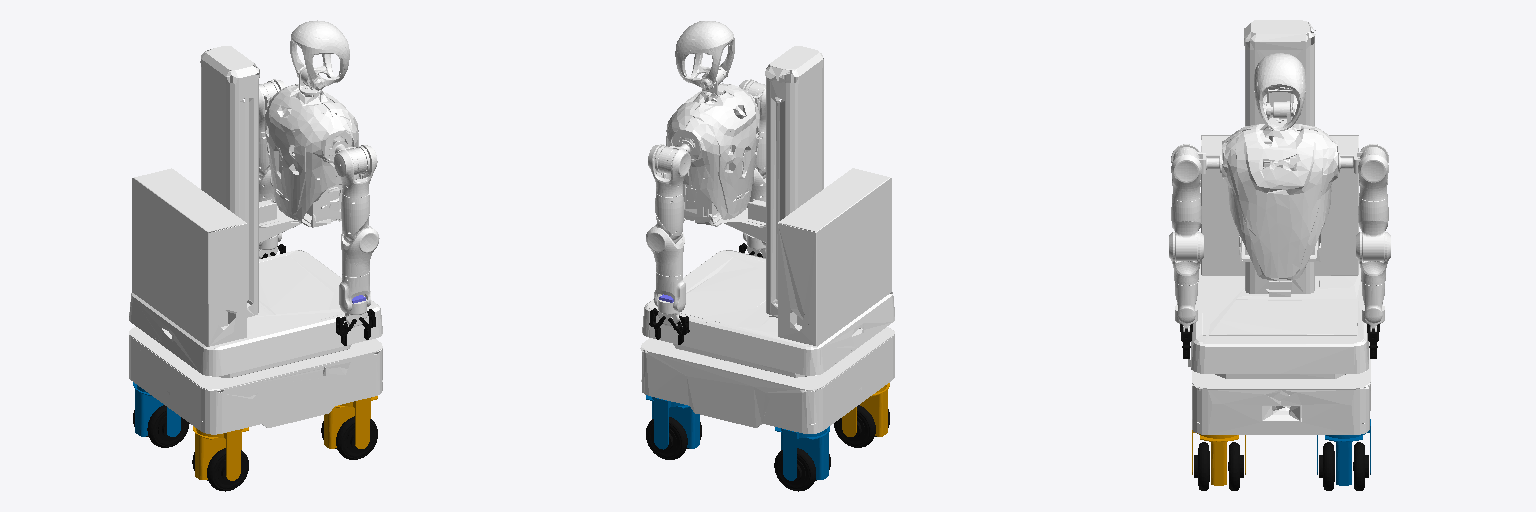
--- Facts derived from the render (not from the file) ---
Views: 3 orthographic renders of the robot side by side, from view 1: azimuth 30°, elevation 25°; view 2: azimuth 150°, elevation 25°; view 3: azimuth 270°, elevation 25°.
Robot: urdf_arm — 52 links, 51 joints (26 revolute, 12 continuous, 1 prismatic, 12 fixed); root link urdf_arm; default pose: every joint at zero.
Links seen in each view (by area): view 1: chassis, urdf_arm, head, br_caster_rotation_link, fr_caster_rotation_link, zarm_r4_link, zarm_r2_link, bl_caster_rotation_link, zarm_r3_link, fr_caster_r_wheel_link, br_caster_r_wheel_link, bl_caster_r_wheel_link (+2 smaller); view 2: chassis, urdf_arm, head, bl_caster_rotation_link, fl_caster_rotation_link, zarm_l4_link, zarm_l2_link, br_caster_rotation_link, zarm_l3_link, bl_caster_l_wheel_link, fl_caster_l_wheel_link, br_caster_l_wheel_link (+2 smaller); view 3: chassis, urdf_arm, head, zarm_l3_link, zarm_r3_link, zarm_l2_link, zarm_r2_link, fl_caster_rotation_link, fr_caster_rotation_link, zarm_r4_link, zarm_l4_link, zarm_l5_link (+5 smaller).
Link boxes in pixels (x1=…): chassis: x1=129, y1=46, x2=382, y2=434; urdf_arm: x1=259, y1=84, x2=358, y2=242; head: x1=290, y1=20, x2=349, y2=90; br_caster_rotation_link: x1=193, y1=426, x2=248, y2=480; fr_caster_rotation_link: x1=324, y1=396, x2=377, y2=448; zarm_r4_link: x1=341, y1=228, x2=379, y2=276; zarm_r2_link: x1=334, y1=145, x2=377, y2=197; bl_caster_rotation_link: x1=133, y1=382, x2=180, y2=436; zarm_r3_link: x1=341, y1=193, x2=371, y2=243; fr_caster_r_wheel_link: x1=336, y1=416, x2=377, y2=459; br_caster_r_wheel_link: x1=207, y1=448, x2=248, y2=491; bl_caster_r_wheel_link: x1=147, y1=405, x2=189, y2=447; chassis: x1=640, y1=46, x2=894, y2=433; urdf_arm: x1=666, y1=83, x2=765, y2=242; head: x1=675, y1=21, x2=734, y2=90; bl_caster_rotation_link: x1=775, y1=426, x2=829, y2=480; fl_caster_rotation_link: x1=646, y1=395, x2=699, y2=449; zarm_l4_link: x1=646, y1=227, x2=684, y2=276; zarm_l2_link: x1=648, y1=144, x2=690, y2=196; br_caster_rotation_link: x1=842, y1=383, x2=889, y2=436; zarm_l3_link: x1=652, y1=193, x2=683, y2=243; bl_caster_l_wheel_link: x1=774, y1=448, x2=815, y2=491; fl_caster_l_wheel_link: x1=646, y1=417, x2=687, y2=459; br_caster_l_wheel_link: x1=834, y1=405, x2=875, y2=447; chassis: x1=1188, y1=20, x2=1370, y2=434; urdf_arm: x1=1222, y1=120, x2=1337, y2=281; head: x1=1254, y1=53, x2=1305, y2=130; zarm_l3_link: x1=1358, y1=196, x2=1388, y2=260; zarm_r3_link: x1=1171, y1=197, x2=1201, y2=260; zarm_l2_link: x1=1358, y1=144, x2=1388, y2=201; zarm_r2_link: x1=1171, y1=144, x2=1201, y2=201; fl_caster_rotation_link: x1=1317, y1=419, x2=1370, y2=485; fr_caster_rotation_link: x1=1192, y1=430, x2=1245, y2=485; zarm_r4_link: x1=1169, y1=232, x2=1203, y2=285; zarm_l4_link: x1=1356, y1=232, x2=1390, y2=285; zarm_l5_link: x1=1361, y1=280, x2=1385, y2=323.
Size in the robot's own frame: 0.7072 by 0.7085 by 1.52 metres.
46 mesh visuals loaded from 23 distinct referenced files (23 OBJ).

URDF robot description (urdf_arm):
<?xml version='1.0' encoding='utf-8'?>
<robot name="urdf_arm">
  <link name="urdf_arm">
    <inertial>
      <origin xyz="-0.0174875527558622 0.00179910750290237 0" rpy="0 0 0" />
      <mass value="5.14039351525955" />
      <inertia ixx="0.0499222359614081" ixy="-1.45737146282782E-06" ixz="0.000941479736923806" iyy="0.0373806752216079" iyz="-1.04144812553937E-05" izz="0.0330605392668542" />
    </inertial>
    <visual>
      <origin xyz="0 0 0" rpy="0 0 0" />
      <geometry>
        <mesh filename="../meshes_obj/urdf_arm.obj" />
      </geometry>
      <material name="">
        <color rgba="1 1 1 1" />
      </material>
    </visual>
    <collision>
      <origin xyz="0 0 0" rpy="0 0 0" />
      <geometry>
        <mesh filename="../meshes_obj/urdf_arm.obj" />
      </geometry>
    </collision>
  </link>
  
  <link name="zarm_l1_link">
    <inertial>
      <origin xyz="0 0 0" rpy="0 0 0" />
      <mass value="0.962" />
      <inertia ixx="0.00225" ixy="-3e-05" ixz="0.0" iyy="0.00099" iyz="-2e-05" izz="0.00227" />
    </inertial>
    <visual>
      <origin xyz="0 0 0" rpy="0 0 0" />
      <geometry>
        <mesh filename="../meshes_obj/l_arm_pitch.obj" /> 
      </geometry>
      <material name="">
        <color rgba="1 1 1 1" /> 
      </material>
    </visual>
  </link>
  
  <joint name="zarm_l1_joint" type="revolute">
    <origin xyz="-0.017499853 0.299269999999999996 0.3" rpy="0 0 0" /> 
    <parent link="urdf_arm" /> 
    <child link="zarm_l1_link" />
    <axis xyz="0 1 0" />
    <limit lower="-3.14159265358979" upper="3.14" effort="100.0" velocity="41.3433333333333" />
    <dynamics damping="0.2" friction="0.1" />
  </joint>
   
  <link name="zarm_l2_link">
    <inertial>
      <origin xyz="-0.00791 0.0 -0.04655" rpy="0 0 0" />
      <mass value="0.57" />
      <inertia ixx="0.00163" ixy="0.0" ixz="5e-05" iyy="0.00211" iyz="0.0" izz="0.00122" />
    </inertial>
    <visual>
      <origin xyz="0 0 0" rpy="0 0 0" />
      <geometry>
        <mesh filename="../meshes_obj/l_arm_roll.obj" />
      </geometry>
      <material name="">
        <color rgba="1 1 1 1" />
      </material>
    </visual>
  </link>
  <joint name="zarm_l2_joint" type="revolute">
    <origin xyz="0 0 0" rpy="0 0 0" />
    <parent link="zarm_l1_link" />
    <child link="zarm_l2_link" />
    <axis xyz="1 0 0" />
    <limit lower="-3.14" upper="3.14" effort="50.0" velocity="8.37333333333333" />
    <dynamics damping="0.2" friction="0.1" />
  </joint>
  <link name="zarm_l3_link">
    <inertial>
      <origin xyz="0.00628 0.00107 -0.20878" rpy="0 0 0" />
      <mass value="1.65" />
      <inertia ixx="0.00815" ixy="-4e-05" ixz="0.00085" iyy="0.00828" iyz="0.00014" izz="0.00206" />
    </inertial>
    <visual>
      <origin xyz="0 0 0" rpy="0 0 0" />
      <geometry>
        <mesh filename="../meshes_obj/l_arm_yaw.obj" />
      </geometry>
      <material name="">
        <color rgba="1 1 1 1" />
      </material>
    </visual>
  </link>
  <joint name="zarm_l3_joint" type="revolute">
    <origin xyz="0 0 0" rpy="0 0 0" />
    <parent link="zarm_l2_link" />
    <child link="zarm_l3_link" />
    <axis xyz="0 0 1" />
    <limit lower="-3.14" upper="3.14" effort="39.0" velocity="19.3633333333333" />
    <dynamics damping="0.2" friction="0.1" />
  </joint>
  <link name="zarm_l4_link">
    <inertial>
      <origin xyz="-0.01611 0.00143 -0.04857" rpy="0 0 0" />
      <mass value="0.429" />
      <inertia ixx="0.00135" ixy="0.0" ixz="-0.0001" iyy="0.00114" iyz="0.0" izz="0.00083" />
    </inertial>
    <visual>
      <origin xyz="0 0 0" rpy="0 0 0" />
      <geometry>
        <mesh filename="../meshes_obj/l_forearm.obj" />
      </geometry>
      <material name="">
        <color rgba="1 1 1 1" />
      </material>
    </visual>
  </link>
  <joint name="zarm_l4_joint" type="revolute">
    <origin xyz="0.0199999999999998 0 -0.2837" rpy="0 0 0" />
    <parent link="zarm_l3_link" />
    <child link="zarm_l4_link" />
    <axis xyz="0 1 0" />
    <limit lower="-3.14" upper="3.14" effort="50.0" velocity="8.37333333333333" />
    <dynamics damping="0.2" friction="0.1" />
  </joint>
    <link name="zarm_l5_link">
    <inertial>
      <origin xyz="-0.00207 0.00018 -0.05079" rpy="0 0 0" />
      <mass value="0.61" />
      <inertia ixx="0.00107" ixy="0.0" ixz="-4e-05" iyy="0.00146" iyz="0.0" izz="0.00083" />
    </inertial>
    <visual>
      <origin xyz="0 0 0" rpy="0 0 0" />
      <geometry>
        <mesh filename="../meshes_obj/l_hand_yaw.obj" />
      </geometry>
      <material name="">
        <color rgba="1 1 1 1" />
      </material>
    </visual>
  </link>
  <joint name="zarm_l5_joint" type="revolute">
    <origin xyz="-0.0200000000000025 0 -0.127037274261591" rpy="0 0 0" />
    <parent link="zarm_l4_link" />
    <child link="zarm_l5_link" />
    <axis xyz="0 0 1" />
    <limit lower="-3.14" upper="3.14" effort="12.0" velocity="21.666" />
  </joint>

<link name="left_gripper_robotiq_85_base_link">
  <inertial>
    <origin xyz="0.00021987 -2.3546E-10 0.030163" rpy="0 0 0" />
    <mass value="0.30915" />
    <inertia ixx="0.00028972" ixy="-5.7879E-10" ixz="-1.8543E-06" iyy="0.00030737" iyz="1.682E-12" izz="0.00019914" />
  </inertial>
  <visual>
    <origin xyz="0 0 0" rpy="0 0 0" />
    <geometry>
      <mesh filename="../meshes_obj/robotiq_85_base_link_fine.obj" />
    </geometry>
    <material name="">
      <color rgba="1 1 1 1" />
    </material>
  </visual>
  <collision>
    <origin xyz="0 0 0" rpy="0 0 0" />
    <geometry>
      <mesh filename="../meshes_obj/robotiq_85_base_link_coarse.obj" />
    </geometry>
  </collision>
</link>
<!-- 新增中间连杆 -->
<link name="left_intermediate_link">
  <inertial>
    <origin xyz="0 0 0" rpy="0 0 0" /> <!-- 需根据实际模型调整 -->
    <mass value="0.1" /> <!-- 示例质量，需根据实际情况设置 -->
    <inertia ixx="0.0005" ixy="0.0" ixz="0.0" 
             iyy="0.0005" iyz="0.0" izz="0.0001" /> <!-- 示例惯性参数 -->
  </inertial>
  <visual>
    <origin xyz="0 0 0" rpy="0 0 0" />
    <geometry>
      <box size="0.05 0.05 0.02" /> <!-- 示例形状，可替换为mesh -->
    </geometry>
    <material name="">
      <color rgba="0.5 0.5 1.0 1.0" /> <!-- 蓝色，便于区分 -->
    </material>
  </visual>
  <collision>
    <origin xyz="0 0 0" rpy="0 0 0" />
    <geometry>
      <box size="0.05 0.05 0.02" />
    </geometry>
  </collision>
</link>

<!-- 新增关节（示例为绕Y轴旋转的旋转关节） -->
<joint name="left_intermediate_joint" type="revolute">
  <origin xyz="0 0 -0.1" rpy="0 0 0" /> <!-- 关节位置，需根据实际调整 -->
  <parent link="zarm_l5_link" />
  <child link="left_intermediate_link" />
  <axis xyz="1 0 0" /> 
  <limit lower="-1.57" upper="1.57" effort="10.0" velocity="5.0" /> <!-- 示例限制 -->
  <dynamics damping="0.1" friction="0.05" /> <!-- 动力学参数 -->
</joint>

<joint name="left_gripper_attachment_joint" type="fixed">
  
  <origin xyz="0 0 0" rpy="3.14 0 0" /> 
  <parent link="left_intermediate_link" />
  <child link="left_gripper_robotiq_85_base_link" />
</joint>
<link name="left_gripper_left_outer_knuckle">
    <inertial>
      <origin xyz="0.0178331863169983 3.68915177224286E-11 0.0021442477325704" rpy="0 0 0" />
      <mass value="0.00684838849434396" />
      <inertia ixx="2.66832029033166E-07" ixy="1.66142314639824E-15" ixz="1.45945633322873E-07" iyy="1.3889233257419E-06" iyz="2.82951161241588E-15" izz="1.26603336914415E-06" />
    </inertial>
    <visual>
      <origin xyz="0 0 0" rpy="0 0 0" />
      <geometry>
        <mesh filename="../meshes_obj/outer_knuckle_fine.obj" />
      </geometry>
      <material name="">
        <color rgba="0.1 0.1 0.1 1" />
      </material>
    </visual>
    <collision>
      <origin xyz="0 0 0" rpy="0 0 0" />
      <geometry>
        <mesh filename="../meshes_obj/outer_knuckle_coarse.obj" />
      </geometry>
    </collision>
  </link>
  <joint name="left_gripper_finger_joint" type="revolute">
    <origin xyz="0.0306011444260539 0 0.0627920162695395" rpy="0 0 0" />
    <parent link="left_gripper_robotiq_85_base_link" />
    <child link="left_gripper_left_outer_knuckle" />
    <axis xyz="0 -1 0" />
    <limit lower="-0.7" upper="0.7" velocity="2.0" effort="1000" />
  </joint>
  <link name="left_gripper_left_outer_finger">
    <inertial>
      <origin xyz="0.00131451599174296 2.88942057994543E-15 0.0215404163180413" rpy="0 0 0" />
      <mass value="0.0273093985570947" />
      <inertia ixx="8.51629628283022E-06" ixy="2.58174336207405E-19" ixz="3.83829504344079E-07" iyy="6.9133328065108E-06" iyz="-7.58589926143789E-19" izz="2.25006832221981E-06" />
    </inertial>
    <visual>
      <origin xyz="0 0 0" rpy="0 0 0" />
      <geometry>
        <mesh filename="../meshes_obj/outer_finger_fine.obj" />
      </geometry>
      <material name="">
        <color rgba="0.1 0.1 0.1 1" />
      </material>
    </visual>
    <collision>
      <origin xyz="0 0 0" rpy="0 0 0" />
      <geometry>
        <mesh filename="../meshes_obj/outer_finger_coarse.obj" />
      </geometry>
    </collision>
  </link>
  <joint name="left_gripper_left_outer_finger_joint" type="fixed">
    <origin xyz="0.0316910442266543 0 -0.00193396375724605" rpy="0 0 0" />
    <parent link="left_gripper_left_outer_knuckle" />
    <child link="left_gripper_left_outer_finger" />
    <axis xyz="0 -1 0" />
  </joint>
  <link name="left_gripper_left_inner_knuckle">
    <inertial>
      <origin xyz="0.017097546626628 -3.93808524389535E-10 0.0224918438201868" rpy="0 0 0" />
      <mass value="0.0110930853895903" />
      <inertia ixx="4.23392770691541E-06" ixy="5.748978936968E-15" ixz="1.78855677119788E-06" iyy="3.96548790524392E-06" iyz="1.05464666369669E-14" izz="3.24068002883007E-06" />
    </inertial>
    <visual>
      <origin xyz="0 0 0" rpy="0 0 0" />
      <geometry>
        <mesh filename="../meshes_obj/inner_knuckle_fine.obj" />
      </geometry>
      <material name="">
        <color rgba="0.1 0.1 0.1 1" />
      </material>
    </visual>
    <collision>
      <origin xyz="0 0 0" rpy="0 0 0" />
      <geometry>
        <mesh filename="../meshes_obj/inner_knuckle_coarse.obj" />
      </geometry>
    </collision>
  </link>
  <joint name="left_gripper_left_inner_knuckle_joint" type="revolute">
    <origin xyz="0.0127000000001501 0 0.0693074999999639" rpy="0 0 0" />
    <parent link="left_gripper_robotiq_85_base_link" />
    <child link="left_gripper_left_inner_knuckle" />
    <axis xyz="0 -1 0" />
    <limit lower="-1" upper="0.8757" velocity="2.0" effort="1000" />
    <mimic joint="left_gripper_finger_joint" multiplier="1" offset="0" />
  </joint>
  <link name="left_gripper_left_inner_finger">
    <inertial>
      <origin xyz="0.0060275613594574 -6.29183141465421E-15 0.00669925693133241" rpy="0 0 0" />
      <mass value="0.00724255346165745" />
      <inertia ixx="1.47824274053603E-06" ixy="-3.94884463570303E-19" ixz="-3.45268847648622E-07" iyy="1.70064480838395E-06" iyz="3.5059838910097E-19" izz="4.77151336838364E-07" />
    </inertial>
    <visual>
      <origin xyz="0 0 0" rpy="0 0 0" />
      <geometry>
        <mesh filename="../meshes_obj/inner_finger_fine.obj" />
      </geometry>
      <material name="">
        <color rgba="0.1 0.1 0.1 1" />
      </material>
    </visual>
    <collision>
      <origin xyz="0 0 0" rpy="0 0 0" />
      <geometry>
        <mesh filename="../meshes_obj/inner_finger_coarse.obj" />
      </geometry>
    </collision>
  </link>
  <joint name="left_gripper_left_inner_finger_joint" type="revolute">
    <origin xyz="0.034585310861294 0 0.0454970193817975" rpy="0 0 0" />
    <parent link="left_gripper_left_inner_knuckle" />
    <child link="left_gripper_left_inner_finger" />
    <axis xyz="0 -1 0" />
    <limit lower="-1" upper="0.8757" velocity="2.0" effort="1000" />
    <mimic joint="left_gripper_finger_joint" multiplier="-1" offset="0" />
  </joint>
  <link name="left_gripper_right_inner_knuckle">
    <inertial>
      <origin xyz="0.0168606186773776 3.93808471820465E-10 0.0226699950793434" rpy="0 0 0" />
      <mass value="0.0110930853895903" />
      <inertia ixx="4.27134775939882E-06" ixy="-8.53568456728898E-15" ixz="1.77774229944246E-06" iyy="3.96548790524392E-06" iyz="-8.45108024914164E-15" izz="3.20325997634666E-06" />
    </inertial>
    <visual>
      <origin xyz="0 0 0" rpy="0 0 0" />
      <geometry>
        <mesh filename="../meshes_obj/inner_knuckle_fine.obj" />
      </geometry>
      <material name="">
        <color rgba="0.1 0.1 0.1 1" />
      </material>
    </visual>
    <collision>
      <origin xyz="0 0 0" rpy="0 0 0" />
      <geometry>
        <mesh filename="../meshes_obj/inner_knuckle_coarse.obj" />
      </geometry>
    </collision>
  </link>
  <joint name="left_gripper_right_inner_knuckle_joint" type="revolute">
    <origin xyz="-0.0126999999998499 0 0.0693075000000361" rpy="0 0 3.14159265358979" />
    <parent link="left_gripper_robotiq_85_base_link" />
    <child link="left_gripper_right_inner_knuckle" />
    <axis xyz="0 1 0" />
    <limit lower="-1" upper="0.8757" velocity="2.0" effort="1000" />
    <mimic joint="left_gripper_finger_joint" multiplier="-1" offset="0" />
  </joint>
  <link name="left_gripper_right_inner_finger">
    <inertial>
      <origin xyz="0.00602756228812038 -6.47284509480176E-15 0.00669925609578108" rpy="0 0 0" />
      <mass value="0.00724255346165744" />
      <inertia ixx="1.47824283625957E-06" ixy="-3.95952064019123E-19" ixz="-3.45268708875543E-07" iyy="1.70064480838394E-06" iyz="3.55286507960029E-19" izz="4.77151241114822E-07" />
    </inertial>
    <visual>
      <origin xyz="0 0 0" rpy="0 0 0" />
      <geometry>
        <mesh filename="../meshes_obj/inner_finger_fine.obj" />
      </geometry>
      <material name="">
        <color rgba="0.1 0.1 0.1 1" />
      </material>
    </visual>
    <collision>
      <origin xyz="0 0 0" rpy="0 0 0" />
      <geometry>
        <mesh filename="../meshes_obj/inner_finger_coarse.obj" />
      </geometry>
    </collision>
  </link>
  <joint name="left_gripper_right_inner_finger_joint" type="revolute">
    <origin xyz="0.0341060475457406 0 0.0458573878541688" rpy="0 0 0" />
    <parent link="left_gripper_right_inner_knuckle" />
    <child link="left_gripper_right_inner_finger" />
    <axis xyz="0 1 0" />
    <limit lower="-1" upper="0.8757" velocity="2.0" effort="1000" />
    <mimic joint="left_gripper_finger_joint" multiplier="1" offset="0" />
  </joint>
  <link name="left_gripper_right_outer_knuckle">
    <inertial>
      <origin xyz="0.0178097074051638 3.60493211424024E-11 0.00233123458346721" rpy="0 0 0" />
      <mass value="0.00684838849401352" />
      <inertia ixx="2.70004361573169E-07" ixy="1.59579467624491E-15" ixz="1.56396493788199E-07" iyy="1.38892332558312E-06" iyz="2.82357800318817E-15" izz="1.26286103637978E-06" />
    </inertial>
    <visual>
      <origin xyz="0 0 0" rpy="0 0 0" />
      <geometry>
        <mesh filename="../meshes_obj/outer_knuckle_fine.obj" />
      </geometry>
      <material name="">
        <color rgba="0.1 0.1 0.1 1" />
      </material>
    </visual>
    <collision>
      <origin xyz="0 0 0" rpy="0 0 0" />
      <geometry>
        <mesh filename="../meshes_obj/outer_knuckle_coarse.obj" />
      </geometry>
    </collision>
  </link>
  <joint name="left_gripper_right_outer_knuckle_joint" type="revolute">
    <origin xyz="-0.0306011444258893 0 0.0627920162695395" rpy="0 0 3.14159265358979" />
    <parent link="left_gripper_robotiq_85_base_link" />
    <child link="left_gripper_right_outer_knuckle" />
    <axis xyz="0 1 0" />
    <limit lower="-1" upper="0.8757" velocity="2.0" effort="1000" />
    <mimic joint="left_gripper_finger_joint" multiplier="-1" offset="0" />
  </joint>
  <link name="left_gripper_right_outer_finger">
    <inertial>
      <origin xyz="0.00108844269639009 -2.611488350845E-15 0.0215530225245502" rpy="0 0 0" />
      <mass value="0.0273093985570947" />
      <inertia ixx="8.52366028592721E-06" ixy="3.41683380899422E-19" ixz="3.18003675694284E-07" iyy="6.91333280651081E-06" iyz="7.37726682706417E-19" izz="2.24270431912283E-06" />
    </inertial>
    <visual>
      <origin xyz="0 0 0" rpy="0 0 0" />
      <geometry>
        <mesh filename="../meshes_obj/outer_finger_fine.obj" />
      </geometry>
      <material name="">
        <color rgba="0.1 0.1 0.1 1" />
      </material>
    </visual>
    <collision>
      <origin xyz="0 0 0" rpy="0 0 0" />
      <geometry>
        <mesh filename="../meshes_obj/outer_finger_coarse.obj" />
      </geometry>
    </collision>
  </link>
  <joint name="left_gripper_right_outer_finger_joint" type="fixed">
    <origin xyz="0.0317095909367246 0 -0.0016013564954687" rpy="0 0 0" />
    <parent link="left_gripper_right_outer_knuckle" />
    <child link="left_gripper_right_outer_finger" />
    <axis xyz="0 1 0" />
  </joint>


  
<link name="zarm_r1_link">
  <inertial>
    <origin xyz="-0.00083 0.02218 0.00035" rpy="0 0 0" /> 
    <mass value="0.962" />
    <inertia ixx="0.00225" ixy="3e-05" ixz="0.0" iyy="0.00099" iyz="2e-05" izz="0.00227" /> 
  </inertial>
  <visual>
    <origin xyz="0 0 0" rpy="0 0 0" />
    <geometry>
      <mesh filename="../meshes_obj/r_arm_pitch.obj" /> 
    </geometry>
    <material name="">
      <color rgba="1 1 1 1" /> 
    </material>
  </visual>
</link>

<joint name="zarm_r1_joint" type="revolute">
  <origin xyz="-0.017499853 -0.299269999999999996 0.3" rpy="0 0 0" /> 
  <parent link="urdf_arm" />
  <child link="zarm_r1_link" />
  <axis xyz="0 1 0" /> 
  <limit lower="-3.14159265358979" upper="3.14" effort="100.0" velocity="41.3433333333333" />
  <dynamics damping="0.2" friction="0.1" />
</joint>


<link name="zarm_r2_link">
  <inertial>
    <origin xyz="-0.00791 0.0 -0.04655" rpy="0 0 0" /> 
    <mass value="0.57" />
    <inertia ixx="0.00163" ixy="0.0" ixz="5e-05" iyy="0.00211" iyz="0.0" izz="0.00122" />
  </inertial>
  <visual>
    <origin xyz="0 0 0" rpy="0 0 0" />
    <geometry>
      <mesh filename="../meshes_obj/r_arm_roll.obj" />
    </geometry>
    <material name="">
      <color rgba="1 1 1 1" />
    </material>
  </visual>
</link>

<joint name="zarm_r2_joint" type="revolute">
  <origin xyz="0 0 0" rpy="0 0 0" />
  <parent link="zarm_r1_link" />
  <child link="zarm_r2_link" />
  <axis xyz="1 0 0" /> 
  <limit lower="-3.14" upper="3.14" effort="50.0" velocity="8.37333333333333" />
  <dynamics damping="0.2" friction="0.1" />
</joint>


<link name="zarm_r3_link">
  <inertial>
    <origin xyz="0.00628 -0.00107 -0.20878" rpy="0 0 0" /> 
    <mass value="1.65" />
    <inertia ixx="0.00815" ixy="4e-05" ixz="0.00085" iyy="0.00828" iyz="-0.00014" izz="0.00206" /> 
  </inertial>
  <visual>
    <origin xyz="0 0 0" rpy="0 0 0" />
    <geometry>
      <mesh filename="../meshes_obj/r_arm_yaw.obj" />
    </geometry>
    <material name="">
      <color rgba="1 1 1 1" />
    </material>
  </visual>
</link>

<joint name="zarm_r3_joint" type="revolute">
  <origin xyz="0 0 0" rpy="0 0 0" />
  <parent link="zarm_r2_link" />
  <child link="zarm_r3_link" />
  <axis xyz="0 0 1" /> 
  <limit lower="-3.14" upper="3.14" effort="39.0" velocity="19.3633333333333" />
  <dynamics damping="0.2" friction="0.1" />
</joint>


<link name="zarm_r4_link">
  <inertial>
    <origin xyz="-0.01611 -0.00143 -0.04857" rpy="0 0 0" /> 
    <mass value="0.429" />
    <inertia ixx="0.00135" ixy="0.0" ixz="-0.0001" iyy="0.00114" iyz="0.0" izz="0.00083" />
  </inertial>
  <visual>
    <origin xyz="0 0 0" rpy="0 0 0" />
    <geometry>
      <mesh filename="../meshes_obj/r_forearm.obj" />
    </geometry>
    <material name="">
      <color rgba="1 1 1 1" />
    </material>
  </visual>
</link>

<joint name="zarm_r4_joint" type="revolute">
  <origin xyz="0.0199999999999998 0 -0.2837" rpy="0 0 0" /> 
  <parent link="zarm_r3_link" />
  <child link="zarm_r4_link" />
  <axis xyz="0 1 0" />
  <limit lower="-3.14" upper="3.14" effort="50.0" velocity="8.37333333333333" />
  <dynamics damping="0.2" friction="0.1" />
</joint>
  <link name="zarm_r5_link">
    <inertial>
      <origin xyz="-0.00207 -0.00018 -0.05079" rpy="0 0 0" />
      <mass value="0.61" />
      <inertia ixx="0.00107" ixy="0.0" ixz="-4e-05" iyy="0.00146" iyz="0.0" izz="0.00083" />
    </inertial>
    <visual>
      <origin xyz="0 0 0" rpy="0 0 0" />
      <geometry>
        <mesh filename="../meshes_obj/r_hand_yaw.obj" />
      </geometry>
      <material name="">
        <color rgba="1 1 1 1" />
      </material>
    </visual>
  </link>
  <joint name="zarm_r5_joint" type="revolute">
    <origin xyz="-0.0200000000000001 0 -0.127037274261587" rpy="0 0 0" />
    <parent link="zarm_r4_link" />
    <child link="zarm_r5_link" />
    <axis xyz="0 0 1" />
    <limit lower="-3.14" upper="3.14" effort="12.0" velocity="21.666" />
  </joint>


<link name="right_gripper_robotiq_85_base_link">
  <inertial>
    <origin xyz="0.00021987 -2.3546E-10 0.030163" rpy="0 0 0" />
    <mass value="0.30915" />
    <inertia ixx="0.00028972" ixy="-5.7879E-10" ixz="-1.8543E-06" iyy="0.00030737" iyz="1.682E-12" izz="0.00019914" />
  </inertial>
  <visual>
    <origin xyz="0 0 0" rpy="0 0 0" />
    <geometry>
      <mesh filename="../meshes_obj/robotiq_85_base_link_fine.obj" />
    </geometry>
    <material name="">
      <color rgba="1 1 1 1" />
    </material>
  </visual>
  <collision>
    <origin xyz="0 0 0" rpy="0 0 0" />
    <geometry>
      <mesh filename="../meshes_obj/robotiq_85_base_link_coarse.obj" />
    </geometry>
  </collision>
</link>

<!-- 新增中间连杆 -->
<link name="right_intermediate_link">
  <inertial>
    <origin xyz="0 0 0" rpy="0 0 0" /> <!-- 需根据实际模型调整 -->
    <mass value="0.1" /> <!-- 示例质量，需根据实际情况设置 -->
    <inertia ixx="0.0005" ixy="0.0" ixz="0.0" 
             iyy="0.0005" iyz="0.0" izz="0.0001" /> <!-- 示例惯性参数 -->
  </inertial>
  <visual>
    <origin xyz="0 0 0" rpy="0 0 0" />
    <geometry>
      <box size="0.05 0.05 0.02" /> <!-- 示例形状，可替换为mesh -->
    </geometry>
    <material name="">
      <color rgba="0.5 0.5 1.0 1.0" /> <!-- 蓝色，便于区分 -->
    </material>
  </visual>
  <collision>
    <origin xyz="0 0 0" rpy="0 0 0" />
    <geometry>
      <box size="0.05 0.05 0.02" />
    </geometry>
  </collision>
</link>

<!-- 新增关节（示例为绕Y轴旋转的旋转关节） -->
<joint name="right_intermediate_joint" type="revolute">
  <origin xyz="0 0 -0.1" rpy="0 0 0" /> <!-- 关节位置，需根据实际调整 -->
  <parent link="zarm_r5_link" />
  <child link="right_intermediate_link" />
  <axis xyz="1 0 0" /> 
  <limit lower="-1.57" upper="1.57" effort="10.0" velocity="5.0" /> <!-- 示例限制 -->
  <dynamics damping="0.1" friction="0.05" /> <!-- 动力学参数 -->
</joint>

<joint name="right_gripper_attachment_joint" type="fixed">
  
  <origin xyz="0 0 0" rpy="3.14 0 0" /> 
  <parent link="right_intermediate_link" />
  <child link="right_gripper_robotiq_85_base_link" />
</joint>
<link name="right_gripper_left_outer_knuckle">
    <inertial>
      <origin xyz="0.0178331863169983 3.68915177224286E-11 0.0021442477325704" rpy="0 0 0" />
      <mass value="0.00684838849434396" />
      <inertia ixx="2.66832029033166E-07" ixy="1.66142314639824E-15" ixz="1.45945633322873E-07" iyy="1.3889233257419E-06" iyz="2.82951161241588E-15" izz="1.26603336914415E-06" />
    </inertial>
    <visual>
      <origin xyz="0 0 0" rpy="0 0 0" />
      <geometry>
        <mesh filename="../meshes_obj/outer_knuckle_fine.obj" />
      </geometry>
      <material name="">
        <color rgba="0.1 0.1 0.1 1" />
      </material>
    </visual>
    <collision>
      <origin xyz="0 0 0" rpy="0 0 0" />
      <geometry>
        <mesh filename="../meshes_obj/outer_knuckle_coarse.obj" />
      </geometry>
    </collision>
  </link>
  <joint name="right_gripper_finger_joint" type="revolute">
    <origin xyz="0.0306011444260539 0 0.0627920162695395" rpy="0 0 0" />
    <parent link="right_gripper_robotiq_85_base_link" />
    <child link="right_gripper_left_outer_knuckle" />
    <axis xyz="0 -1 0" />
    <limit lower="-1" upper="1" velocity="2.0" effort="1000" />
  </joint>
  <link name="right_gripper_left_outer_finger">
    <inertial>
      <origin xyz="0.00131451599174296 2.88942057994543E-15 0.0215404163180413" rpy="0 0 0" />
      <mass value="0.0273093985570947" />
      <inertia ixx="8.51629628283022E-06" ixy="2.58174336207405E-19" ixz="3.83829504344079E-07" iyy="6.9133328065108E-06" iyz="-7.58589926143789E-19" izz="2.25006832221981E-06" />
    </inertial>
    <visual>
      <origin xyz="0 0 0" rpy="0 0 0" />
      <geometry>
        <mesh filename="../meshes_obj/outer_finger_fine.obj" />
      </geometry>
      <material name="">
        <color rgba="0.1 0.1 0.1 1" />
      </material>
    </visual>
    <collision>
      <origin xyz="0 0 0" rpy="0 0 0" />
      <geometry>
        <mesh filename="../meshes_obj/outer_finger_coarse.obj" />
      </geometry>
    </collision>
  </link>
  <joint name="right_gripper_left_outer_finger_joint" type="fixed">
    <origin xyz="0.0316910442266543 0 -0.00193396375724605" rpy="0 0 0" />
    <parent link="right_gripper_left_outer_knuckle" />
    <child link="right_gripper_left_outer_finger" />
    <axis xyz="0 -1 0" />
  </joint>
  <link name="right_gripper_left_inner_knuckle">
    <inertial>
      <origin xyz="0.017097546626628 -3.93808524389535E-10 0.0224918438201868" rpy="0 0 0" />
      <mass value="0.0110930853895903" />
      <inertia ixx="4.23392770691541E-06" ixy="5.748978936968E-15" ixz="1.78855677119788E-06" iyy="3.96548790524392E-06" iyz="1.05464666369669E-14" izz="3.24068002883007E-06" />
    </inertial>
    <visual>
      <origin xyz="0 0 0" rpy="0 0 0" />
      <geometry>
        <mesh filename="../meshes_obj/inner_knuckle_fine.obj" />
      </geometry>
      <material name="">
        <color rgba="0.1 0.1 0.1 1" />
      </material>
    </visual>
    <collision>
      <origin xyz="0 0 0" rpy="0 0 0" />
      <geometry>
        <mesh filename="../meshes_obj/inner_knuckle_coarse.obj" />
      </geometry>
    </collision>
  </link>
  <joint name="right_gripper_left_inner_knuckle_joint" type="revolute">
    <origin xyz="0.0127000000001501 0 0.0693074999999639" rpy="0 0 0" />
    <parent link="right_gripper_robotiq_85_base_link" />
    <child link="right_gripper_left_inner_knuckle" />
    <axis xyz="0 -1 0" />
    <limit lower="-1" upper="0.8757" velocity="2.0" effort="1000" />
    <mimic joint="right_gripper_finger_joint" multiplier="1" offset="0" />
  </joint>
  <link name="right_gripper_left_inner_finger">
    <inertial>
      <origin xyz="0.0060275613594574 -6.29183141465421E-15 0.00669925693133241" rpy="0 0 0" />
      <mass value="0.00724255346165745" />
      <inertia ixx="1.47824274053603E-06" ixy="-3.94884463570303E-19" ixz="-3.45268847648622E-07" iyy="1.70064480838395E-06" iyz="3.5059838910097E-19" izz="4.77151336838364E-07" />
    </inertial>
    <visual>
      <origin xyz="0 0 0" rpy="0 0 0" />
      <geometry>
        <mesh filename="../meshes_obj/inner_finger_fine.obj" />
      </geometry>
      <material name="">
        <color rgba="0.1 0.1 0.1 1" />
      </material>
    </visual>
    <collision>
      <origin xyz="0 0 0" rpy="0 0 0" />
      <geometry>
        <mesh filename="../meshes_obj/inner_finger_coarse.obj" />
      </geometry>
    </collision>
  </link>
  <joint name="right_gripper_left_inner_finger_joint" type="revolute">
    <origin xyz="0.034585310861294 0 0.0454970193817975" rpy="0 0 0" />
    <parent link="right_gripper_left_inner_knuckle" />
    <child link="right_gripper_left_inner_finger" />
    <axis xyz="0 -1 0" />
    <limit lower="-1" upper="0.8757" velocity="2.0" effort="1000" />
    <mimic joint="right_gripper_finger_joint" multiplier="-1" offset="0" />
  </joint>
  <link name="right_gripper_right_inner_knuckle">
    <inertial>
      <origin xyz="0.0168606186773776 3.93808471820465E-10 0.0226699950793434" rpy="0 0 0" />
      <mass value="0.0110930853895903" />
      <inertia ixx="4.27134775939882E-06" ixy="-8.53568456728898E-15" ixz="1.77774229944246E-06" iyy="3.96548790524392E-06" iyz="-8.45108024914164E-15" izz="3.20325997634666E-06" />
    </inertial>
    <visual>
      <origin xyz="0 0 0" rpy="0 0 0" />
      <geometry>
        <mesh filename="../meshes_obj/inner_knuckle_fine.obj" />
      </geometry>
      <material name="">
        <color rgba="0.1 0.1 0.1 1" />
      </material>
    </visual>
    <collision>
      <origin xyz="0 0 0" rpy="0 0 0" />
      <geometry>
        <mesh filename="../meshes_obj/inner_knuckle_coarse.obj" />
      </geometry>
    </collision>
  </link>
  <joint name="right_gripper_right_inner_knuckle_joint" type="revolute">
    <origin xyz="-0.0126999999998499 0 0.0693075000000361" rpy="0 0 3.14159265358979" />
    <parent link="right_gripper_robotiq_85_base_link" />
    <child link="right_gripper_right_inner_knuckle" />
    <axis xyz="0 1 0" />
    <limit lower="-1" upper="0.8757" velocity="2.0" effort="1000" />
    <mimic joint="right_gripper_finger_joint" multiplier="-1" offset="0" />
  </joint>
  <link name="right_gripper_right_inner_finger">
    <inertial>
      <origin xyz="0.00602756228812038 -6.47284509480176E-15 0.00669925609578108" rpy="0 0 0" />
      <mass value="0.00724255346165744" />
      <inertia ixx="1.47824283625957E-06" ixy="-3.95952064019123E-19" ixz="-3.45268708875543E-07" iyy="1.70064480838394E-06" iyz="3.55286507960029E-19" izz="4.77151241114822E-07" />
    </inertial>
    <visual>
      <origin xyz="0 0 0" rpy="0 0 0" />
      <geometry>
        <mesh filename="../meshes_obj/inner_finger_fine.obj" />
      </geometry>
      <material name="">
        <color rgba="0.1 0.1 0.1 1" />
      </material>
    </visual>
    <collision>
      <origin xyz="0 0 0" rpy="0 0 0" />
      <geometry>
        <mesh filename="../meshes_obj/inner_finger_coarse.obj" />
      </geometry>
    </collision>
  </link>
  <joint name="right_gripper_right_inner_finger_joint" type="revolute">
    <origin xyz="0.0341060475457406 0 0.0458573878541688" rpy="0 0 0" />
    <parent link="right_gripper_right_inner_knuckle" />
    <child link="right_gripper_right_inner_finger" />
    <axis xyz="0 1 0" />
    <limit lower="-1" upper="0.8757" velocity="2.0" effort="1000" />
    <mimic joint="right_gripper_finger_joint" multiplier="1" offset="0" />
  </joint>
  <link name="right_gripper_right_outer_knuckle">
    <inertial>
      <origin xyz="0.0178097074051638 3.60493211424024E-11 0.00233123458346721" rpy="0 0 0" />
      <mass value="0.00684838849401352" />
      <inertia ixx="2.70004361573169E-07" ixy="1.59579467624491E-15" ixz="1.56396493788199E-07" iyy="1.38892332558312E-06" iyz="2.82357800318817E-15" izz="1.26286103637978E-06" />
    </inertial>
    <visual>
      <origin xyz="0 0 0" rpy="0 0 0" />
      <geometry>
        <mesh filename="../meshes_obj/outer_knuckle_fine.obj" />
      </geometry>
      <material name="">
        <color rgba="0.1 0.1 0.1 1" />
      </material>
    </visual>
    <collision>
      <origin xyz="0 0 0" rpy="0 0 0" />
      <geometry>
        <mesh filename="../meshes_obj/outer_knuckle_coarse.obj" />
      </geometry>
    </collision>
  </link>
  <joint name="right_gripper_right_outer_knuckle_joint" type="revolute">
    <origin xyz="-0.0306011444258893 0 0.0627920162695395" rpy="0 0 3.14159265358979" />
    <parent link="right_gripper_robotiq_85_base_link" />
    <child link="right_gripper_right_outer_knuckle" />
    <axis xyz="0 1 0" />
    <limit lower="-1" upper="0.8757" velocity="2.0" effort="1000" />
    <mimic joint="right_gripper_finger_joint" multiplier="-1" offset="0" />
  </joint>
  <link name="right_gripper_right_outer_finger">
    <inertial>
      <origin xyz="0.00108844269639009 -2.611488350845E-15 0.0215530225245502" rpy="0 0 0" />
      <mass value="0.0273093985570947" />
      <inertia ixx="8.52366028592721E-06" ixy="3.41683380899422E-19" ixz="3.18003675694284E-07" iyy="6.91333280651081E-06" iyz="7.37726682706417E-19" izz="2.24270431912283E-06" />
    </inertial>
    <visual>
      <origin xyz="0 0 0" rpy="0 0 0" />
      <geometry>
        <mesh filename="../meshes_obj/outer_finger_fine.obj" />
      </geometry>
      <material name="">
        <color rgba="0.1 0.1 0.1 1" />
      </material>
    </visual>
    <collision>
      <origin xyz="0 0 0" rpy="0 0 0" />
      <geometry>
        <mesh filename="../meshes_obj/outer_finger_coarse.obj" />
      </geometry>
    </collision>
  </link>
  <joint name="right_gripper_right_outer_finger_joint" type="fixed">
    <origin xyz="0.0317095909367246 0 -0.0016013564954687" rpy="0 0 0" />
    <parent link="right_gripper_right_outer_knuckle" />
    <child link="right_gripper_right_outer_finger" />
    <axis xyz="0 1 0" />
  </joint>
  <link name="head_pitch_motor">
    <inertial>
      <origin xyz="2.15064692521312E-05 0.0060485397407308 -0.0105235281816768" rpy="0 0 0" />
      <mass value="0.0736988170115525" />
      <inertia ixx="3.67348067267319E-05" ixy="6.73619780094987E-08" ixz="-2.37137268464132E-08" iyy="4.13511095677461E-05" iyz="-7.39465521015481E-06" izz="3.68282513893872E-05" />
    </inertial>
    <visual>
      <origin xyz="0 0 0" rpy="0 0 0" />
      <geometry>
        <mesh filename="../meshes_obj/head_pitch_motor.obj" />
      </geometry>
      <material name="">
        <color rgba="1 1 1 1" />
      </material>
    </visual>
    <collision>
      <origin xyz="0 0 0" rpy="0 0 0" />
      <geometry>
        <mesh filename="../meshes_obj/head_pitch_motor.obj" />
      </geometry>
    </collision>
  </link>
  <joint name="head_pitch_motor" type="revolute">
    <origin xyz="-0.0184999999351704 0 0.488400000086134" rpy="0 0 0" />
    <parent link="urdf_arm" />
    <child link="head_pitch_motor" />
    <axis xyz="0 0 -1" />
    
    <limit lower="-3.14" upper="3.14" effort="0" velocity="0" />
  </joint>
  <link name="head">
    <inertial>
      <origin xyz="0.0270543321696196 -0.000611241791026834 0.108993350171997" rpy="0 0 0" />
      <mass value="0.604629438749788" />
      <inertia ixx="0.00220911712019339" ixy="4.4908476911183E-06" ixz="0.000409391213149813" iyy="0.00215799979792596" iyz="1.35756758490623E-05" izz="0.00193855033637337" />
    </inertial>
    <visual>
      <origin xyz="0 0 0" rpy="0 0 0" />
      <geometry>
        <mesh filename="../meshes_obj/head.obj" />
      </geometry>
      <material name="">
        <color rgba="1 1 1 1" />
      </material>
    </visual>
    <collision>
      <origin xyz="0 0 0" rpy="0 0 0" />
      <geometry>
        <mesh filename="../meshes_obj/head.obj" />
      </geometry>
    </collision>
  </link>
  <joint name="head" type="revolute">
    <origin xyz="0 0 0" rpy="0 0 0" />
    <parent link="head_pitch_motor" />
    <child link="head" />
    <axis xyz="0 -1 0" />
    
    <limit lower="-3.14" upper="3.14" effort="0" velocity="0" />
  </joint>
  <link name="head_camera">
    <inertial>
      <origin xyz="-0.00630026061866237 -0.016049154506062 -4.88215811403903E-05" rpy="0 0 0" />
      <mass value="0.0170256015508832" />
      <inertia ixx="1.0918264029313E-05" ixy="-1.05354408167635E-07" ixz="-1.05871497323788E-08" iyy="8.57178950734429E-07" iyz="-1.64018651463633E-08" izz="1.02869893338383E-05" />
    </inertial>
    <visual>
      <origin xyz="0 0 0" rpy="0 0 0" />
      <geometry>
        <mesh filename="../meshes_obj/head_camera.obj" />
      </geometry>
      <material name="">
        <color rgba="1 1 1 1" />
      </material>
    </visual>
    <collision>
      <origin xyz="0 0 0" rpy="0 0 0" />
      <geometry>
        <mesh filename="../meshes_obj/head_camera.obj" />
      </geometry>
    </collision>
  </link>
  <joint name="head_camera" type="fixed">
    <origin xyz="0.0974492283101479 0.0174530823583079 0.125581998333391" rpy="0 0.488692190558416 0" />
    <parent link="head" />
    <child link="head_camera" />
    <axis xyz="0 0 0" />
  </joint>

<link name="chassis">
  <inertial>
    <origin xyz="-0.11038 0.00343 0.30101" rpy="0 0 0" />
    
    <mass value="5" />
    <inertia ixx="10.408029" ixy="-0.000287" ixz="138.9546e-5" iyy="9.9227538" iyz="-4.99e-5" izz="10.3126794" />
  </inertial>
  <visual>
    <origin xyz="0 0 0" rpy="0 0 0" />
    <geometry>
      <mesh filename="../meshes_obj/chassis.obj" />
    </geometry>
    <material name="">
      <color rgba="1 1 1 1" />
    </material>
  </visual>
  <collision>
    <origin xyz="0 0 0" rpy="0 0 0" />
    <geometry>
      <mesh filename="../meshes_obj/chassis.obj" />
    </geometry>
  </collision>
</link>


  <joint name="chassis" type="prismatic">
    <origin xyz="-0.5808425065806821 -0.295 -0.754500000000001" rpy="0 0 0" />
    <parent link="urdf_arm" />
    <child link="chassis" />
    <axis xyz="0 0 1" />
    <limit lower="-3.14" upper="3.14" effort="0" velocity="0" />
  </joint>
  <link name="camera_torso">
    <inertial>
      <origin xyz="-0.00629451575980258 -0.0161363809954276 -0.000627399255521022" rpy="0 0 0" />
      <mass value="0.0174035563465764" />
      <inertia ixx="1.14512648371916E-05" ixy="-1.06865323527971E-07" ixz="2.15531841453902E-08" iyy="1.01358420465748E-06" iyz="-9.98083555754382E-09" izz="1.06808111754815E-05" />
    </inertial>
    <visual>
      <origin xyz="0 0 0" rpy="0 0 0" />
      <geometry>
        <mesh filename="../meshes_obj/camera_torso.obj" />
      </geometry>
      <material name="">
        <color rgba="1 1 1 1" />
      </material>
    </visual>
    <collision>
      <origin xyz="0 0 0" rpy="0 0 0" />
      <geometry>
        <mesh filename="../meshes_obj/camera_torso.obj" />
      </geometry>
    </collision>
  </link>
  <joint name="camera_torso" type="fixed">
    <origin xyz="0.115075952675679 0.01749999999949 0.27587244861972" rpy="0 0.855211333477246 0" />
    <parent link="urdf_arm" />
    <child link="camera_torso" />
    <axis xyz="0 0 0" />
  </joint>

<!-- 左前轮-->
  <joint name="fl_caster_rotation_joint" type="continuous">
    <axis xyz="0 0 1"/>
    <limit effort="6.5" velocity="10"/>
    <safety_controller k_velocity="10"/>
    <calibration rising="-0.785398163397"/>
    <dynamics damping="1.0" friction="0.0"/>
    <origin rpy="0 0 0" xyz="0.6 0.5 0"/>
    <parent link="chassis"/>
    <child link="fl_caster_rotation_link"/>
  </joint>
  
  <link name="fl_caster_rotation_link">
    <inertial>
      <mass value="3.473082"/>
      <origin xyz="0 0 0.07"/>
      <inertia ixx="0.012411765597" ixy="-0.000711733678" ixz="0.00050272983" iyy="0.015218160428" iyz="-0.000004273467" izz="0.011763977943"/>
    </inertial>
    <visual>
      <origin rpy="0 0 0" xyz="0 0 0"/>
      <geometry>
        <mesh filename="../meshes/caster.obj"/>
      </geometry>
    </visual>
    <collision>
      <origin rpy="0 0 0" xyz="0 0 0"/>
      <geometry>
        <mesh filename="../meshes/caster_L.obj"/>
      </geometry>
    </collision>
  </link>
  
  <transmission name="fl_caster_rotation_trans" type="transmission_interface/SimpleTransmission">
    <actuator name="fl_caster_rotation_motor">
      <hardwareInterface>hardware_interface/PositionJointInterface</hardwareInterface>
      <mechanicalReduction>-79.2380952381</mechanicalReduction>
      <electricalMotor>
        <type>DC</type>           <!-- 直流电机 -->
        <nominalVoltage>24.0</nominalVoltage>  <!-- 额定电压(V) -->
        <stallTorque>12.0</stallTorque>        <!-- 堵转扭矩(N·m) -->
        <freeSpeed>3000.0</freeSpeed>          <!-- 空载转速(RPM) -->
        <efficiency>0.85</efficiency>          <!-- 效率 -->
      </electricalMotor>
    </actuator>
    <joint name="fl_caster_rotation_joint"/>
  </transmission>
  
  <joint name="fl_caster_l_wheel_joint" type="continuous">
    <axis xyz="0 1 0"/>
    <limit effort="7" velocity="15"/>
    <safety_controller k_velocity="10"/>
    <dynamics damping="1.0" friction="0.0"/>
    <origin rpy="0 0 0" xyz="0 0.049 0"/>
    <parent link="fl_caster_rotation_link"/>
    <child link="fl_caster_l_wheel_link"/>
  </joint>
  
  <link name="fl_caster_l_wheel_link">
    <inertial>
      <mass value="0.44036"/>
      <origin xyz="0 0 0"/>
      <inertia ixx="0.012411765597" ixy="-0.000711733678" ixz="0.00050272983" iyy="0.015218160428" iyz="-0.000004273467" izz="0.011763977943"/>
    </inertial>
    <visual>
      <origin rpy="3.14 0 0" xyz="0 0 0"/>
      <geometry>
        <mesh filename="../meshes/wheel.obj"/>
      </geometry>
      <material name="wheel_tire">
        <color rgba="0.1 0.1 0.1 1.0"/> <!-- 黑色轮胎 -->
      </material>
    </visual>
    <collision>
      <origin rpy="1.57079632679 0 0" xyz="0 0 0"/>
      <geometry>
        <!-- <cylinder length="0.134" radius="0.074792"/> -->
        <mesh filename="../meshes/wheel.obj"/>
      </geometry>
    </collision>
  </link>
  
  <transmission name="fl_caster_l_wheel_trans" type="transmission_interface/SimpleTransmission">
    <actuator name="fl_caster_l_wheel_motor">
      <hardwareInterface>hardware_interface/VelocityJointInterface</hardwareInterface>
      <mechanicalReduction>79.2380952381</mechanicalReduction>
      <electricalMotor>
        <type>DC</type>
        <nominalVoltage>24.0</nominalVoltage>
        <stallTorque>15.0</stallTorque>
        <freeSpeed>4000.0</freeSpeed>
        <efficiency>0.88</efficiency>
      </electricalMotor>
      <!-- 编码器参数 -->
      <encoder>
        <type>incremental</type> <!-- 增量式编码器 -->
        <resolution>2048</resolution> <!-- 每转脉冲数 -->
        <noiseSigma>0.001</noiseSigma> <!-- 噪声标准差 -->
        <updateRate>1000</updateRate> <!-- 更新频率(Hz) -->
      </encoder>
    </actuator>
    <joint name="fl_caster_l_wheel_joint"/>
  </transmission>
  
  <joint name="fl_caster_r_wheel_joint" type="continuous">
    <axis xyz="0 1 0"/>
    <limit effort="7" velocity="15"/>
    <safety_controller k_velocity="10"/>
    <dynamics damping="1.0" friction="0.0"/>
    <origin rpy="0 0 0" xyz="0 -0.049 0"/>
    <parent link="fl_caster_rotation_link"/>
    <child link="fl_caster_r_wheel_link"/>
  </joint>
  
  <link name="fl_caster_r_wheel_link">
    <inertial>
      <mass value="0.44036"/>
      <origin xyz="0 0 0"/>
      <inertia ixx="0.012411765597" ixy="-0.000711733678" ixz="0.00050272983" iyy="0.015218160428" iyz="-0.000004273467" izz="0.011763977943"/>
    </inertial>
    <visual>
      <origin rpy="0 0 0" xyz="0 0 0"/>
      <geometry>
        <mesh filename="../meshes/wheel.obj"/>
      </geometry>
      <material name="wheel_tire">
        <color rgba="0.1 0.1 0.1 1.0"/> <!-- 黑色轮胎 -->
      </material>
    </visual>
    <collision>
      <origin rpy="1.57079632679 0 0" xyz="0 0 0"/>
      <geometry>
        <!-- <cylinder length="0.134" radius="0.074792"/> -->
        <mesh filename="../meshes/wheel.obj"/>
      </geometry>
    </collision>
  </link>
  
  <transmission name="fl_caster_r_wheel_trans" type="transmission_interface/SimpleTransmission">
    <actuator name="fl_caster_r_wheel_motor">
      <hardwareInterface>hardware_interface/VelocityJointInterface</hardwareInterface>
      <mechanicalReduction>-79.2380952381</mechanicalReduction>
      <electricalMotor>
        <type>DC</type>
        <nominalVoltage>24.0</nominalVoltage>
        <stallTorque>15.0</stallTorque>
        <freeSpeed>4000.0</freeSpeed>
        <efficiency>0.88</efficiency>
      </electricalMotor>
      <!-- 编码器参数 -->
      <encoder>
        <type>incremental</type>
        <resolution>2048</resolution>
        <noiseSigma>0.001</noiseSigma>
        <updateRate>1000</updateRate>
      </encoder>
    </actuator>
    <joint name="fl_caster_r_wheel_joint"/>
  </transmission>
  
  <!-- 传感器：IMU（可选，用于姿态估计） -->
  <link name="fl_imu_link">
    <inertial>
      <mass value="0.1"/>
      <origin xyz="0 0 0"/>
      <inertia ixx="0.001" ixy="0" ixz="0" iyy="0.001" iyz="0" izz="0.001"/>
    </inertial>
    <visual>
      <origin rpy="0 0 0" xyz="0 0 0"/>
      <geometry>
        <box size="0.02 0.02 0.01"/>
      </geometry>
      <material name="imu">
        <color rgba="0.8 0.2 0.2 1.0"/> <!-- 红色 -->
      </material>
    </visual>
  </link>
  
  <joint name="fl_imu_joint" type="fixed">
    <parent link="fl_caster_rotation_link"/>
    <child link="fl_imu_link"/>
    <origin rpy="0 0 0" xyz="0 0 0.1"/>
  </joint>
  

  <!-- 右前轮-->
  <joint name="fr_caster_rotation_joint" type="continuous">
    <axis xyz="0 0 1"/>
    <limit effort="6.5" velocity="10"/>
    <safety_controller k_velocity="10"/>
    <calibration rising="-0.785398163397"/>
    <dynamics damping="1.0" friction="0.0"/>
    <origin rpy="0 0 0" xyz="0.6 0.1 0"/>
    <parent link="chassis"/>
    <child link="fr_caster_rotation_link"/>
  </joint>
  
  <link name="fr_caster_rotation_link">
    <inertial>
      <mass value="3.473082"/>
      <origin xyz="0 0 0.07"/>
      <inertia ixx="0.012411765597" ixy="-0.000711733678" ixz="0.00050272983" iyy="0.015218160428" iyz="-0.000004273467" izz="0.011763977943"/>
    </inertial>
    <visual>
      <origin rpy="0 0 0" xyz="0 0 0"/>
      <geometry>
        <mesh filename="../meshes/caster.obj"/>
      </geometry>
    </visual>
    <collision>
      <origin rpy="0 0 0" xyz="0 0 0"/>
      <geometry>
        <mesh filename="../meshes/caster_L.obj"/>
      </geometry>
    </collision>
  </link>
  
  <transmission name="fr_caster_rotation_trans" type="transmission_interface/SimpleTransmission">
    <actuator name="fr_caster_rotation_motor">
      <hardwareInterface>hardware_interface/PositionJointInterface</hardwareInterface>
      <mechanicalReduction>-79.2380952381</mechanicalReduction>
      <electricalMotor>
        <type>DC</type>           <!-- 直流电机 -->
        <nominalVoltage>24.0</nominalVoltage>  <!-- 额定电压(V) -->
        <stallTorque>12.0</stallTorque>        <!-- 堵转扭矩(N·m) -->
        <freeSpeed>3000.0</freeSpeed>          <!-- 空载转速(RPM) -->
        <efficiency>0.85</efficiency>          <!-- 效率 -->
      </electricalMotor>
    </actuator>
    <joint name="fr_caster_rotation_joint"/>
  </transmission>
  
  <joint name="fr_caster_l_wheel_joint" type="continuous">
    <axis xyz="0 1 0"/>
    <limit effort="7" velocity="15"/>
    <safety_controller k_velocity="10"/>
    <dynamics damping="1.0" friction="0.0"/>
    <origin rpy="0 0 0" xyz="0 0.049 0"/>
    <parent link="fr_caster_rotation_link"/>
    <child link="fr_caster_l_wheel_link"/>
  </joint>
  
  <link name="fr_caster_l_wheel_link">
    <inertial>
      <mass value="0.44036"/>
      <origin xyz="0 0 0"/>
      <inertia ixx="0.012411765597" ixy="-0.000711733678" ixz="0.00050272983" iyy="0.015218160428" iyz="-0.000004273467" izz="0.011763977943"/>
    </inertial>
    <visual>
      <origin rpy="3.14 0 0" xyz="0 0 0"/>
      <geometry>
        <mesh filename="../meshes/wheel.obj"/>
      </geometry>
      <material name="wheel_tire">
        <color rgba="0.1 0.1 0.1 1.0"/> <!-- 黑色轮胎 -->
      </material>
    </visual>
    <collision>
      <origin rpy="1.57079632679 0 0" xyz="0 0 0"/>
      <geometry>
        <!-- <cylinder length="0.134" radius="0.074792"/> -->
        <mesh filename="../meshes/wheel.obj"/>
      </geometry>
    </collision>
  </link>
  
  <transmission name="fr_caster_l_wheel_trans" type="transmission_interface/SimpleTransmission">
    <actuator name="fr_caster_l_wheel_motor">
      <hardwareInterface>hardware_interface/VelocityJointInterface</hardwareInterface>
      <mechanicalReduction>79.2380952381</mechanicalReduction>
      <electricalMotor>
        <type>DC</type>
        <nominalVoltage>24.0</nominalVoltage>
        <stallTorque>15.0</stallTorque>
        <freeSpeed>4000.0</freeSpeed>
        <efficiency>0.88</efficiency>
      </electricalMotor>
      <!-- 编码器参数 -->
      <encoder>
        <type>incremental</type> <!-- 增量式编码器 -->
        <resolution>2048</resolution> <!-- 每转脉冲数 -->
        <noiseSigma>0.001</noiseSigma> <!-- 噪声标准差 -->
        <updateRate>1000</updateRate> <!-- 更新频率(Hz) -->
      </encoder>
    </actuator>
    <joint name="fr_caster_l_wheel_joint"/>
  </transmission>
  
  <joint name="fr_caster_r_wheel_joint" type="continuous">
    <axis xyz="0 1 0"/>
    <limit effort="7" velocity="15"/>
    <safety_controller k_velocity="10"/>
    <dynamics damping="1.0" friction="0.0"/>
    <origin rpy="0 0 0" xyz="0 -0.049 0"/>
    <parent link="fr_caster_rotation_link"/>
    <child link="fr_caster_r_wheel_link"/>
  </joint>
  
  <link name="fr_caster_r_wheel_link">
    <inertial>
      <mass value="0.44036"/>
      <origin xyz="0 0 0"/>
      <inertia ixx="0.012411765597" ixy="-0.000711733678" ixz="0.00050272983" iyy="0.015218160428" iyz="-0.000004273467" izz="0.011763977943"/>
    </inertial>
    <visual>
      <origin rpy="0 0 0" xyz="0 0 0"/>
      <geometry>
        <mesh filename="../meshes/wheel.obj"/>
      </geometry>
      <material name="wheel_tire">
        <color rgba="0.1 0.1 0.1 1.0"/> <!-- 黑色轮胎 -->
      </material>
    </visual>
    <collision>
      <origin rpy="1.57079632679 0 0" xyz="0 0 0"/>
      <geometry>
        <!-- <cylinder length="0.134" radius="0.074792"/> -->
        <mesh filename="../meshes/wheel.obj"/>
      </geometry>
    </collision>
  </link>
  
  <transmission name="fr_caster_r_wheel_trans" type="transmission_interface/SimpleTransmission">
    <actuator name="fr_caster_r_wheel_motor">
      <hardwareInterface>hardware_interface/VelocityJointInterface</hardwareInterface>
      <mechanicalReduction>-79.2380952381</mechanicalReduction>
      <electricalMotor>
        <type>DC</type>
        <nominalVoltage>24.0</nominalVoltage>
        <stallTorque>15.0</stallTorque>
        <freeSpeed>4000.0</freeSpeed>
        <efficiency>0.88</efficiency>
      </electricalMotor>
      <!-- 编码器参数 -->
      <encoder>
        <type>incremental</type>
        <resolution>2048</resolution>
        <noiseSigma>0.001</noiseSigma>
        <updateRate>1000</updateRate>
      </encoder>
    </actuator>
    <joint name="fr_caster_r_wheel_joint"/>
  </transmission>
  
  <!-- 传感器：IMU（可选，用于姿态估计） -->
  <link name="fr_imu_link">
    <inertial>
      <mass value="0.1"/>
      <origin xyz="0 0 0"/>
      <inertia ixx="0.001" ixy="0" ixz="0" iyy="0.001" iyz="0" izz="0.001"/>
    </inertial>
    <visual>
      <origin rpy="0 0 0" xyz="0 0 0"/>
      <geometry>
        <box size="0.02 0.02 0.01"/>
      </geometry>
      <material name="imu">
        <color rgba="0.8 0.2 0.2 1.0"/> <!-- 红色 -->
      </material>
    </visual>
  </link>
  
  <joint name="fr_imu_joint" type="fixed">
    <parent link="fr_caster_rotation_link"/>
    <child link="fr_imu_link"/>
    <origin rpy="0 0 0" xyz="0 0 0.1"/>
  </joint>


<!-- 左后轮-->
  <joint name="bl_caster_rotation_joint" type="continuous">
    <axis xyz="0 0 1"/>
    <limit effort="6.5" velocity="10"/>
    <safety_controller k_velocity="10"/>
    <calibration rising="-0.785398163397"/>
    <dynamics damping="1.0" friction="0.0"/>
    <origin rpy="0 0 0" xyz="0.1 0.5 0"/>
    <parent link="chassis"/>
    <child link="bl_caster_rotation_link"/>
  </joint>
  
  <link name="bl_caster_rotation_link">
    <inertial>
      <mass value="3.473082"/>
      <origin xyz="0 0 0.07"/>
      <inertia ixx="0.012411765597" ixy="-0.000711733678" ixz="0.00050272983" iyy="0.015218160428" iyz="-0.000004273467" izz="0.011763977943"/>
    </inertial>
    <visual>
      <origin rpy="0 0 0" xyz="0 0 0"/>
      <geometry>
        <mesh filename="../meshes/caster.obj"/>
      </geometry>
    </visual>
    <collision>
      <origin rpy="0 0 0" xyz="0 0 0"/>
      <geometry>
        <mesh filename="../meshes/caster_L.obj"/>
      </geometry>
    </collision>
  </link>
  
  <transmission name="bl_caster_rotation_trans" type="transmission_interface/SimpleTransmission">
    <actuator name="bl_caster_rotation_motor">
      <hardwareInterface>hardware_interface/PositionJointInterface</hardwareInterface>
      <mechanicalReduction>-79.2380952381</mechanicalReduction>
      <electricalMotor>
        <type>DC</type>           <!-- 直流电机 -->
        <nominalVoltage>24.0</nominalVoltage>  <!-- 额定电压(V) -->
        <stallTorque>12.0</stallTorque>        <!-- 堵转扭矩(N·m) -->
        <freeSpeed>3000.0</freeSpeed>          <!-- 空载转速(RPM) -->
        <efficiency>0.85</efficiency>          <!-- 效率 -->
      </electricalMotor>
    </actuator>
    <joint name="bl_caster_rotation_joint"/>
  </transmission>
  
  <joint name="bl_caster_l_wheel_joint" type="continuous">
    <axis xyz="0 1 0"/>
    <limit effort="7" velocity="15"/>
    <safety_controller k_velocity="10"/>
    <dynamics damping="1.0" friction="0.0"/>
    <origin rpy="0 0 0" xyz="0 0.049 0"/>
    <parent link="bl_caster_rotation_link"/>
    <child link="bl_caster_l_wheel_link"/>
  </joint>
  
  <link name="bl_caster_l_wheel_link">
    <inertial>
      <mass value="0.44036"/>
      <origin xyz="0 0 0"/>
      <inertia ixx="0.012411765597" ixy="-0.000711733678" ixz="0.00050272983" iyy="0.015218160428" iyz="-0.000004273467" izz="0.011763977943"/>
    </inertial>
    <visual>
      <origin rpy="3.14 0 0" xyz="0 0 0"/>
      <geometry>
        <mesh filename="../meshes/wheel.obj"/>
      </geometry>
      <material name="wheel_tire">
        <color rgba="0.1 0.1 0.1 1.0"/> <!-- 黑色轮胎 -->
      </material>
    </visual>
    <collision>
      <origin rpy="1.57079632679 0 0" xyz="0 0 0"/>
      <geometry>
        <!-- <cylinder length="0.134" radius="0.074792"/> -->
        <mesh filename="../meshes/wheel.obj"/>
      </geometry>
    </collision>
  </link>
  
  <transmission name="bl_caster_l_wheel_trans" type="transmission_interface/SimpleTransmission">
    <actuator name="bl_caster_l_wheel_motor">
      <hardwareInterface>hardware_interface/VelocityJointInterface</hardwareInterface>
      <mechanicalReduction>79.2380952381</mechanicalReduction>
      <electricalMotor>
        <type>DC</type>
        <nominalVoltage>24.0</nominalVoltage>
        <stallTorque>15.0</stallTorque>
        <freeSpeed>4000.0</freeSpeed>
        <efficiency>0.88</efficiency>
      </electricalMotor>
      <!-- 编码器参数 -->
      <encoder>
        <type>incremental</type> <!-- 增量式编码器 -->
        <resolution>2048</resolution> <!-- 每转脉冲数 -->
        <noiseSigma>0.001</noiseSigma> <!-- 噪声标准差 -->
        <updateRate>1000</updateRate> <!-- 更新频率(Hz) -->
      </encoder>
    </actuator>
    <joint name="bl_caster_l_wheel_joint"/>
  </transmission>
  
  <joint name="bl_caster_r_wheel_joint" type="continuous">
    <axis xyz="0 1 0"/>
    <limit effort="7" velocity="15"/>
    <safety_controller k_velocity="10"/>
    <dynamics damping="1.0" friction="0.0"/>
    <origin rpy="0 0 0" xyz="0 -0.049 0"/>
    <parent link="bl_caster_rotation_link"/>
    <child link="bl_caster_r_wheel_link"/>
  </joint>
  
  <link name="bl_caster_r_wheel_link">
    <inertial>
      <mass value="0.44036"/>
      <origin xyz="0 0 0"/>
      <inertia ixx="0.012411765597" ixy="-0.000711733678" ixz="0.00050272983" iyy="0.015218160428" iyz="-0.000004273467" izz="0.011763977943"/>
    </inertial>
    <visual>
      <origin rpy="0 0 0" xyz="0 0 0"/>
      <geometry>
        <mesh filename="../meshes/wheel.obj"/>
      </geometry>
      <material name="wheel_tire">
        <color rgba="0.1 0.1 0.1 1.0"/> <!-- 黑色轮胎 -->
      </material>
    </visual>
    <collision>
      <origin rpy="1.57079632679 0 0" xyz="0 0 0"/>
      <geometry>
        <!-- <cylinder length="0.134" radius="0.074792"/> -->
        <mesh filename="../meshes/wheel.obj"/>
      </geometry>
    </collision>
  </link>
  
  <transmission name="bl_caster_r_wheel_trans" type="transmission_interface/SimpleTransmission">
    <actuator name="bl_caster_r_wheel_motor">
      <hardwareInterface>hardware_interface/VelocityJointInterface</hardwareInterface>
      <mechanicalReduction>-79.2380952381</mechanicalReduction>
      <electricalMotor>
        <type>DC</type>
        <nominalVoltage>24.0</nominalVoltage>
        <stallTorque>15.0</stallTorque>
        <freeSpeed>4000.0</freeSpeed>
        <efficiency>0.88</efficiency>
      </electricalMotor>
      <!-- 编码器参数 -->
      <encoder>
        <type>incremental</type>
        <resolution>2048</resolution>
        <noiseSigma>0.001</noiseSigma>
        <updateRate>1000</updateRate>
      </encoder>
    </actuator>
    <joint name="bl_caster_r_wheel_joint"/>
  </transmission>
  
  <!-- 传感器：IMU（可选，用于姿态估计） -->
  <link name="bl_imu_link">
    <inertial>
      <mass value="0.1"/>
      <origin xyz="0 0 0"/>
      <inertia ixx="0.001" ixy="0" ixz="0" iyy="0.001" iyz="0" izz="0.001"/>
    </inertial>
    <visual>
      <origin rpy="0 0 0" xyz="0 0 0"/>
      <geometry>
        <box size="0.02 0.02 0.01"/>
      </geometry>
      <material name="imu">
        <color rgba="0.8 0.2 0.2 1.0"/> <!-- 红色 -->
      </material>
    </visual>
  </link>
  
  <joint name="bl_imu_joint" type="fixed">
    <parent link="bl_caster_rotation_link"/>
    <child link="bl_imu_link"/>
    <origin rpy="0 0 0" xyz="0 0 0.1"/>
  </joint>


  <!-- 右后轮-->
  <joint name="br_caster_rotation_joint" type="continuous">
    <axis xyz="0 0 1"/>
    <limit effort="6.5" velocity="10"/>
    <safety_controller k_velocity="10"/>
    <calibration rising="-0.785398163397"/>
    <dynamics damping="1.0" friction="0.0"/>
    <origin rpy="0 0 0" xyz="0.1 0.1 0"/>
    <parent link="chassis"/>
    <child link="br_caster_rotation_link"/>
  </joint>
  
  <link name="br_caster_rotation_link">
    <inertial>
      <mass value="3.473082"/>
      <origin xyz="0 0 0.07"/>
      <inertia ixx="0.012411765597" ixy="-0.000711733678" ixz="0.00050272983" iyy="0.015218160428" iyz="-0.000004273467" izz="0.011763977943"/>
    </inertial>
    <visual>
      <origin rpy="0 0 0" xyz="0 0 0"/>
      <geometry>
        <mesh filename="../meshes/caster.obj"/>
      </geometry>
    </visual>
    <collision>
      <origin rpy="0 0 0" xyz="0 0 0"/>
      <geometry>
        <mesh filename="../meshes/caster_L.obj"/>
      </geometry>
    </collision>
  </link>
  
  <transmission name="br_caster_rotation_trans" type="transmission_interface/SimpleTransmission">
    <actuator name="br_caster_rotation_motor">
      <hardwareInterface>hardware_interface/PositionJointInterface</hardwareInterface>
      <mechanicalReduction>-79.2380952381</mechanicalReduction>
      <electricalMotor>
        <type>DC</type>           <!-- 直流电机 -->
        <nominalVoltage>24.0</nominalVoltage>  <!-- 额定电压(V) -->
        <stallTorque>12.0</stallTorque>        <!-- 堵转扭矩(N·m) -->
        <freeSpeed>3000.0</freeSpeed>          <!-- 空载转速(RPM) -->
        <efficiency>0.85</efficiency>          <!-- 效率 -->
      </electricalMotor>
    </actuator>
    <joint name="br_caster_rotation_joint"/>
  </transmission>
  
  <joint name="br_caster_l_wheel_joint" type="continuous">
    <axis xyz="0 1 0"/>
    <limit effort="7" velocity="15"/>
    <safety_controller k_velocity="10"/>
    <dynamics damping="1.0" friction="0.0"/>
    <origin rpy="0 0 0" xyz="0 0.049 0"/>
    <parent link="br_caster_rotation_link"/>
    <child link="br_caster_l_wheel_link"/>
  </joint>
  
  <link name="br_caster_l_wheel_link">
    <inertial>
      <mass value="0.44036"/>
      <origin xyz="0 0 0"/>
      <inertia ixx="0.012411765597" ixy="-0.000711733678" ixz="0.00050272983" iyy="0.015218160428" iyz="-0.000004273467" izz="0.011763977943"/>
    </inertial>
    <visual>
      <origin rpy="3.14 0 0" xyz="0 0 0"/>
      <geometry>
        <mesh filename="../meshes/wheel.obj"/>
      </geometry>
      <material name="wheel_tire">
        <color rgba="0.1 0.1 0.1 1.0"/> <!-- 黑色轮胎 -->
      </material>
    </visual>
    <collision>
      <origin rpy="1.57079632679 0 0" xyz="0 0 0"/>
      <geometry>
        <!-- <cylinder length="0.134" radius="0.074792"/> -->
        <mesh filename="../meshes/wheel.obj"/>
      </geometry>
    </collision>
  </link>
  
  <transmission name="br_caster_l_wheel_trans" type="transmission_interface/SimpleTransmission">
    <actuator name="br_caster_l_wheel_motor">
      <hardwareInterface>hardware_interface/VelocityJointInterface</hardwareInterface>
      <mechanicalReduction>79.2380952381</mechanicalReduction>
      <electricalMotor>
        <type>DC</type>
        <nominalVoltage>24.0</nominalVoltage>
        <stallTorque>15.0</stallTorque>
        <freeSpeed>4000.0</freeSpeed>
        <efficiency>0.88</efficiency>
      </electricalMotor>
      <!-- 编码器参数 -->
      <encoder>
        <type>incremental</type> <!-- 增量式编码器 -->
        <resolution>2048</resolution> <!-- 每转脉冲数 -->
        <noiseSigma>0.001</noiseSigma> <!-- 噪声标准差 -->
        <updateRate>1000</updateRate> <!-- 更新频率(Hz) -->
      </encoder>
    </actuator>
    <joint name="br_caster_l_wheel_joint"/>
  </transmission>
  
  <joint name="br_caster_r_wheel_joint" type="continuous">
    <axis xyz="0 1 0"/>
    <limit effort="7" velocity="15"/>
    <safety_controller k_velocity="10"/>
    <dynamics damping="1.0" friction="0.0"/>
    <origin rpy="0 0 0" xyz="0 -0.049 0"/>
    <parent link="br_caster_rotation_link"/>
    <child link="br_caster_r_wheel_link"/>
  </joint>
  
  <link name="br_caster_r_wheel_link">
    <inertial>
      <mass value="0.44036"/>
      <origin xyz="0 0 0"/>
      <inertia ixx="0.012411765597" ixy="-0.000711733678" ixz="0.00050272983" iyy="0.015218160428" iyz="-0.000004273467" izz="0.011763977943"/>
    </inertial>
    <visual>
      <origin rpy="0 0 0" xyz="0 0 0"/>
      <geometry>
        <mesh filename="../meshes/wheel.obj"/>
      </geometry>
      <material name="wheel_tire">
        <color rgba="0.1 0.1 0.1 1.0"/> <!-- 黑色轮胎 -->
      </material>
    </visual>
    <collision>
      <origin rpy="1.57079632679 0 0" xyz="0 0 0"/>
      <geometry>
        <!-- <cylinder length="0.134" radius="0.074792"/> -->
        <mesh filename="../meshes/wheel.obj"/>
      </geometry>
    </collision>
  </link>
  
  <transmission name="br_caster_r_wheel_trans" type="transmission_interface/SimpleTransmission">
    <actuator name="br_caster_r_wheel_motor">
      <hardwareInterface>hardware_interface/VelocityJointInterface</hardwareInterface>
      <mechanicalReduction>-79.2380952381</mechanicalReduction>
      <electricalMotor>
        <type>DC</type>
        <nominalVoltage>24.0</nominalVoltage>
        <stallTorque>15.0</stallTorque>
        <freeSpeed>4000.0</freeSpeed>
        <efficiency>0.88</efficiency>
      </electricalMotor>
      <!-- 编码器参数 -->
      <encoder>
        <type>incremental</type>
        <resolution>2048</resolution>
        <noiseSigma>0.001</noiseSigma>
        <updateRate>1000</updateRate>
      </encoder>
    </actuator>
    <joint name="br_caster_r_wheel_joint"/>
  </transmission>
  
  <!-- 传感器：IMU（可选，用于姿态估计） -->
  <link name="br_imu_link">
    <inertial>
      <mass value="0.1"/>
      <origin xyz="0 0 0"/>
      <inertia ixx="0.001" ixy="0" ixz="0" iyy="0.001" iyz="0" izz="0.001"/>
    </inertial>
    <visual>
      <origin rpy="0 0 0" xyz="0 0 0"/>
      <geometry>
        <box size="0.02 0.02 0.01"/>
      </geometry>
      <material name="imu">
        <color rgba="0.8 0.2 0.2 1.0"/> <!-- 红色 -->
      </material>
    </visual>
  </link>
  
  <joint name="br_imu_joint" type="fixed">
    <parent link="br_caster_rotation_link"/>
    <child link="br_imu_link"/>
    <origin rpy="0 0 0" xyz="0 0 0.1"/>
  </joint>
</robot>
